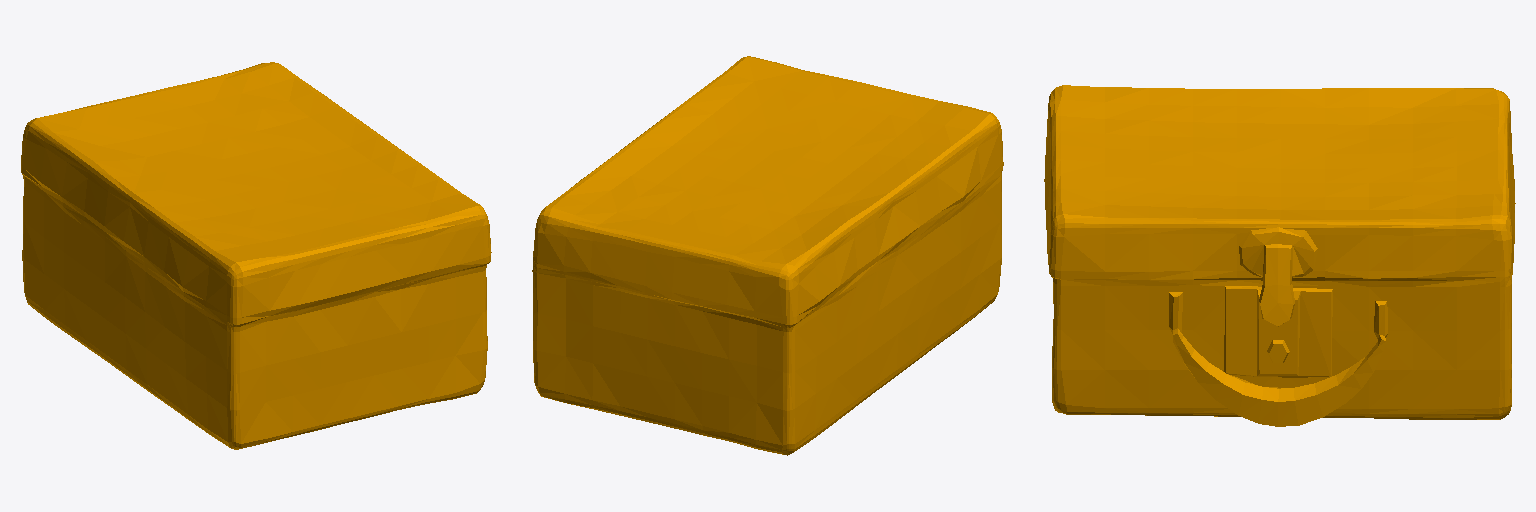
robot.urdf — mesh_object:
<robot name="mesh_object">
            <link name="base">
                <visual>
                    <geometry>
                        <mesh filename="belt_buckle_1_v000.obj" scale="1 1 1" />
                    </geometry>
                </visual>
                <collision>
                    <geometry>
                        <mesh filename="belt_buckle_1_v000.obj" scale="1 1 1" />
                    </geometry>
                </collision>
                <inertial>
                    <origin xyz="0.000000 0.000000 0.018475" rpy="0 0 0" />
                    <mass value="0.500000" />
                    <inertia ixx="0.01" iyy="0.01" izz="0.01" ixy="0" ixz="0" iyz="0" />
                </inertial>
            </link>
            </robot>

--- Render facts (derived) ---
3 views of the same robot in one strip: view 1: azimuth 30°, elevation 25°; view 2: azimuth 150°, elevation 25°; view 3: azimuth 270°, elevation 25° (orthographic).
Robot: mesh_object — 1 links, 0 joints (none); root link base; default pose: every joint at zero.
Links seen in each view (by area): view 1: base; view 2: base; view 3: base.
Boxes of the visible links, x1,y1,x2,y2 form: base: [21, 62, 491, 449]; base: [532, 56, 1003, 455]; base: [1044, 85, 1515, 426].
Size in the robot's own frame: 0.0655 by 0.087 by 0.0425 metres.
1 mesh visuals loaded from 1 distinct referenced files (1 OBJ).
